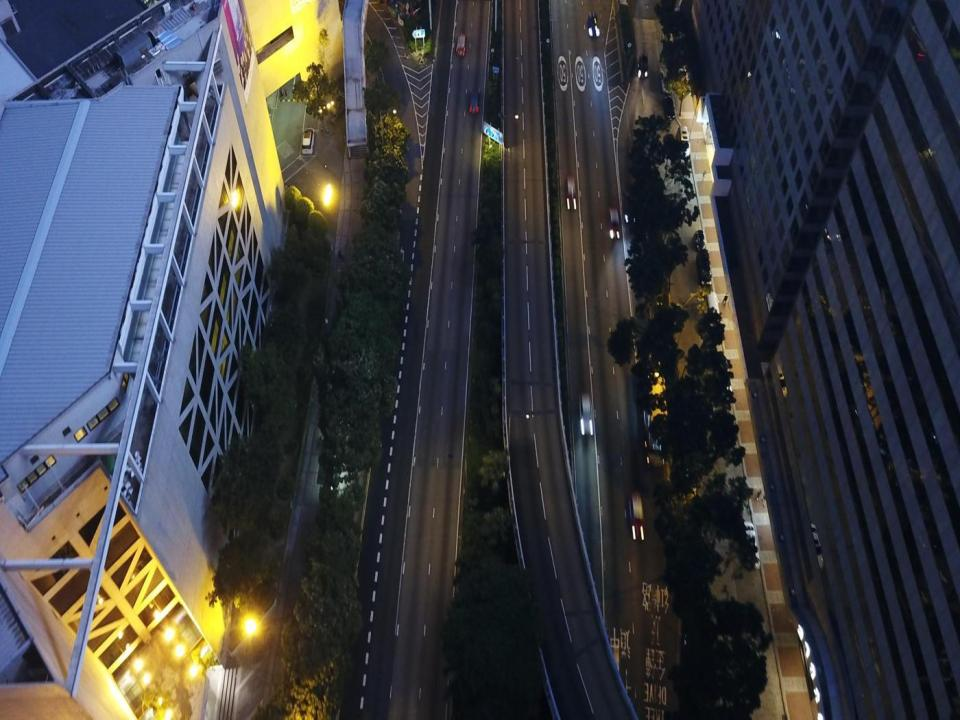car: (627, 492, 646, 540), (743, 522, 761, 568), (564, 174, 576, 210), (586, 15, 599, 38), (637, 54, 649, 78), (468, 94, 480, 116), (694, 229, 705, 252), (455, 34, 467, 55)
van: (704, 292, 724, 344), (695, 249, 712, 288), (578, 394, 593, 435), (678, 124, 690, 157), (607, 210, 619, 240), (302, 129, 313, 153)
